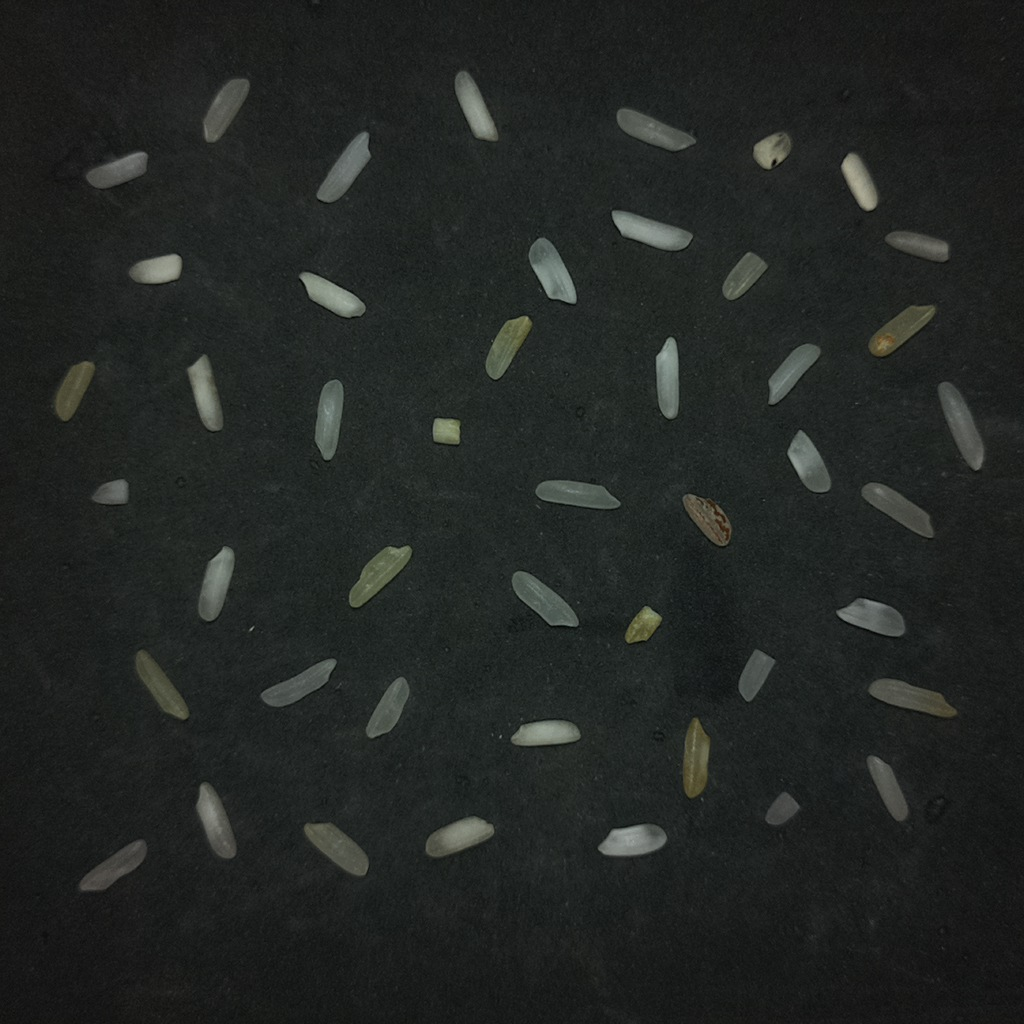broken: (303, 822, 367, 876), (365, 677, 410, 739), (787, 430, 830, 492), (836, 599, 905, 636), (85, 151, 147, 189), (885, 230, 949, 262), (723, 253, 766, 300), (738, 649, 775, 701), (625, 605, 662, 643), (765, 791, 799, 826), (91, 479, 128, 505), (432, 418, 460, 445)
chalky: (526, 234, 580, 306), (611, 210, 692, 251), (454, 70, 498, 141), (298, 271, 365, 317), (425, 816, 494, 857), (187, 354, 222, 431), (598, 823, 666, 856), (841, 152, 877, 211), (656, 337, 679, 419), (511, 719, 580, 746), (128, 253, 183, 285)
damaged: (868, 305, 936, 357), (753, 131, 791, 169)
discolored: (348, 546, 410, 607), (135, 650, 188, 720), (868, 678, 957, 717), (485, 315, 531, 379), (54, 361, 94, 421), (682, 717, 710, 798)
red: (684, 493, 732, 546)
whole: (937, 381, 985, 471), (861, 482, 933, 538), (316, 131, 371, 203), (260, 658, 336, 706), (512, 571, 578, 626), (78, 839, 146, 891), (616, 108, 695, 151), (768, 343, 819, 404), (196, 782, 236, 858), (203, 77, 249, 142), (197, 546, 234, 621), (866, 755, 908, 821), (535, 481, 620, 509), (314, 379, 343, 460)
